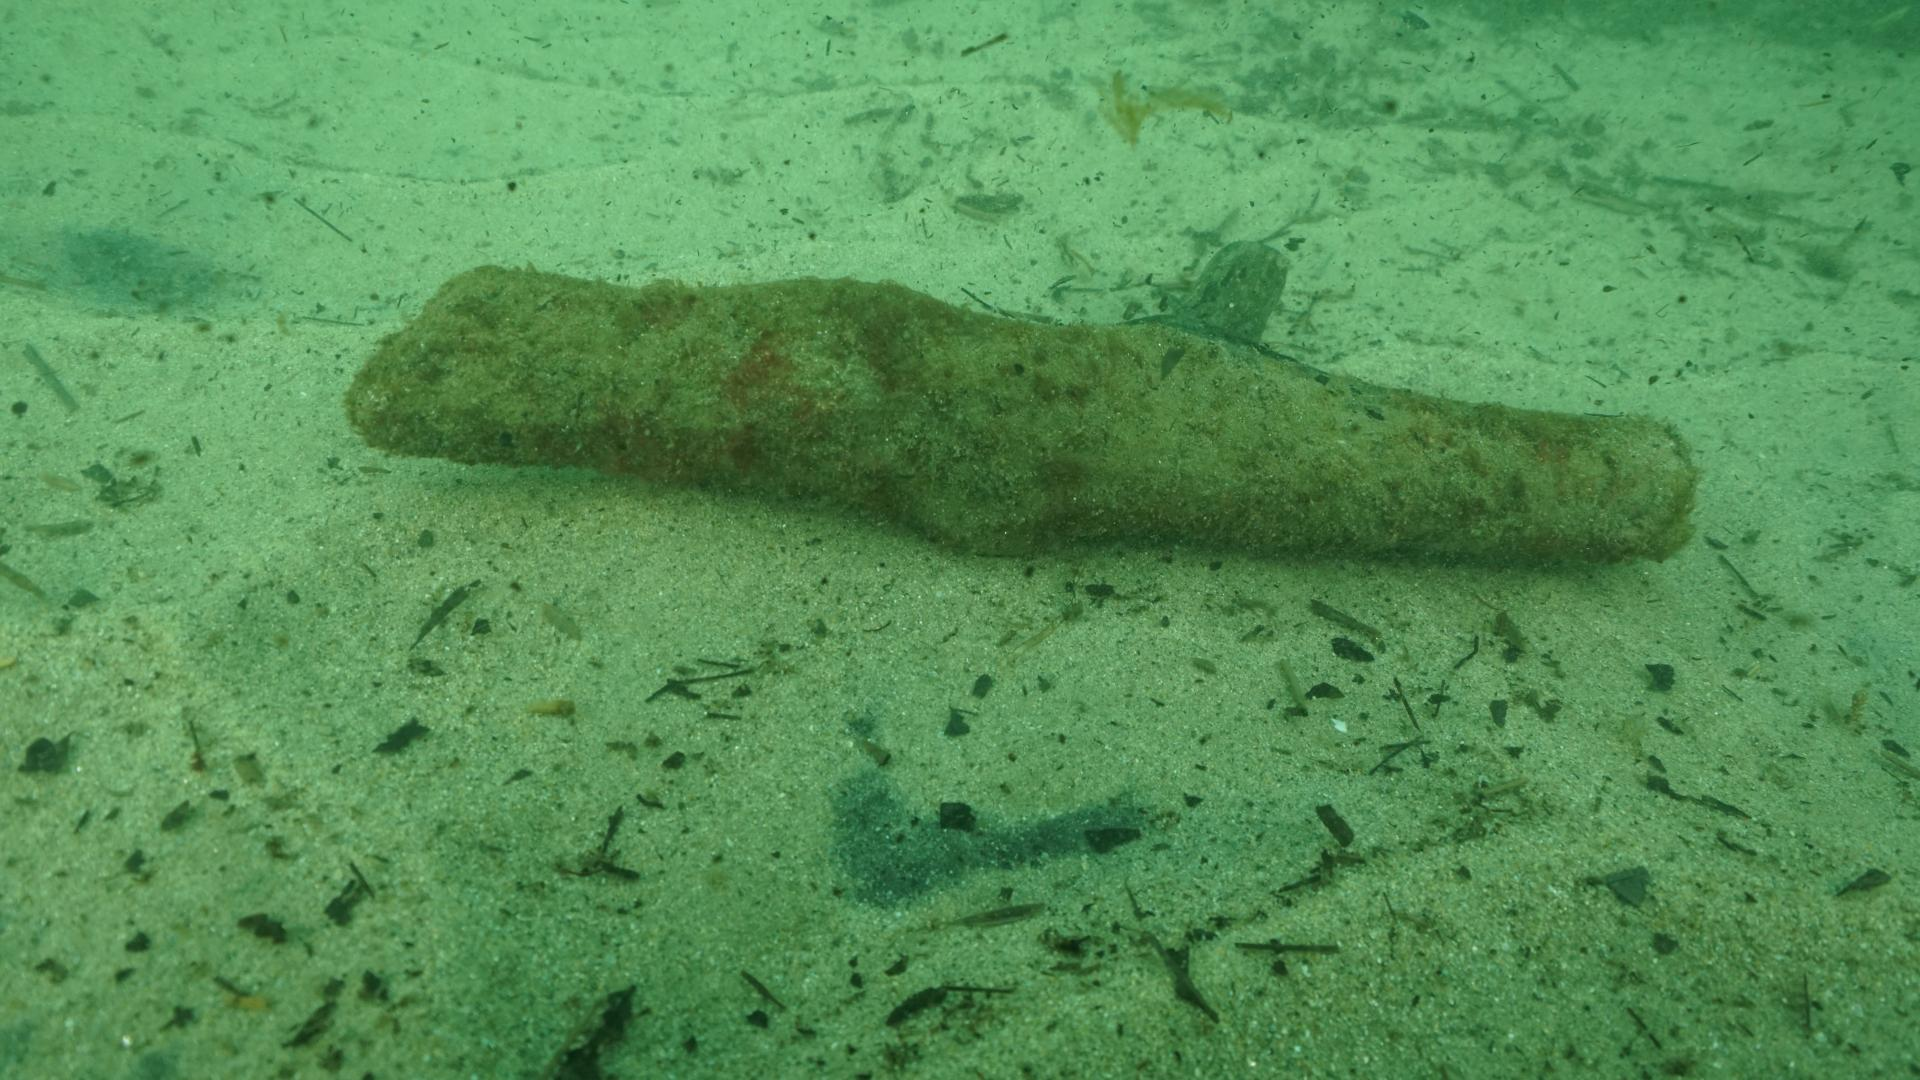wood: (340, 244, 1692, 575)
